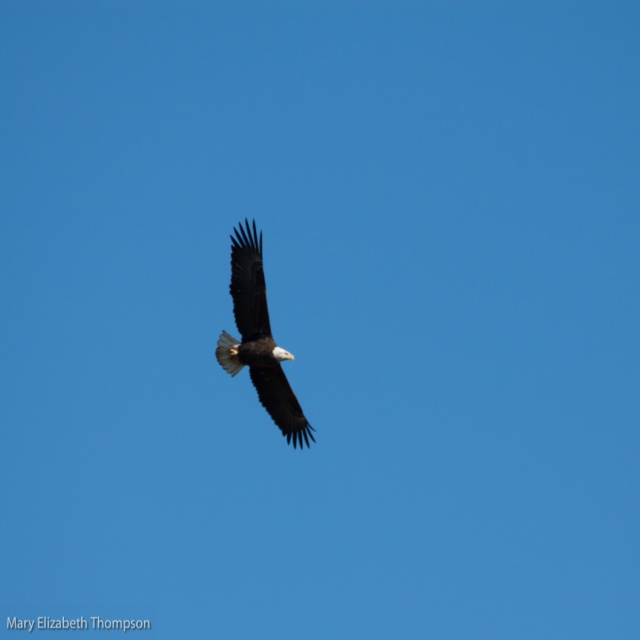Eagle: (216, 218, 317, 450)
